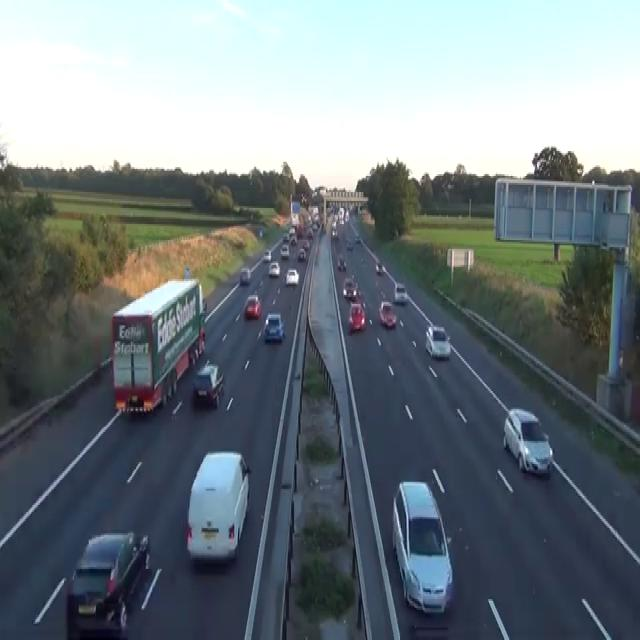Car: (65, 530, 150, 638), (391, 480, 453, 613), (185, 450, 251, 565), (502, 407, 553, 478), (193, 359, 224, 407), (425, 324, 451, 359), (264, 311, 284, 341), (347, 302, 365, 332), (378, 301, 396, 327), (244, 294, 260, 318), (342, 278, 357, 300), (285, 268, 299, 286), (394, 283, 407, 302), (239, 266, 251, 284), (268, 262, 280, 278), (356, 290, 366, 309), (200, 299, 207, 320), (337, 254, 346, 270), (280, 244, 289, 258), (375, 261, 384, 274), (297, 247, 306, 260), (263, 249, 271, 261), (288, 226, 296, 236), (346, 240, 353, 251), (302, 238, 309, 249), (331, 228, 338, 238), (290, 235, 297, 245), (306, 228, 313, 238), (350, 272, 356, 283), (282, 233, 289, 242), (331, 220, 337, 230), (312, 222, 318, 230), (355, 234, 360, 243), (339, 217, 344, 224), (259, 228, 262, 236)
Truck: (110, 276, 207, 416)
